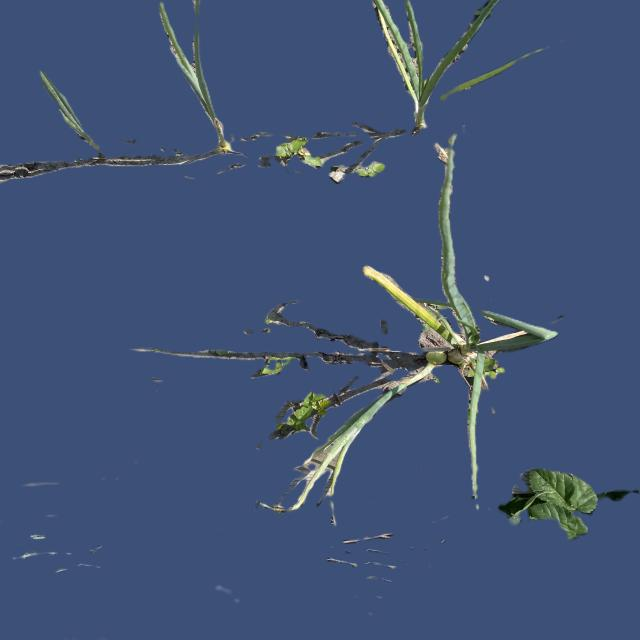Onion: (351, 190, 563, 390), (370, 0, 519, 106), (157, 5, 235, 157), (39, 74, 99, 154)
weed: (515, 467, 595, 546), (275, 393, 331, 440), (277, 134, 321, 168)
